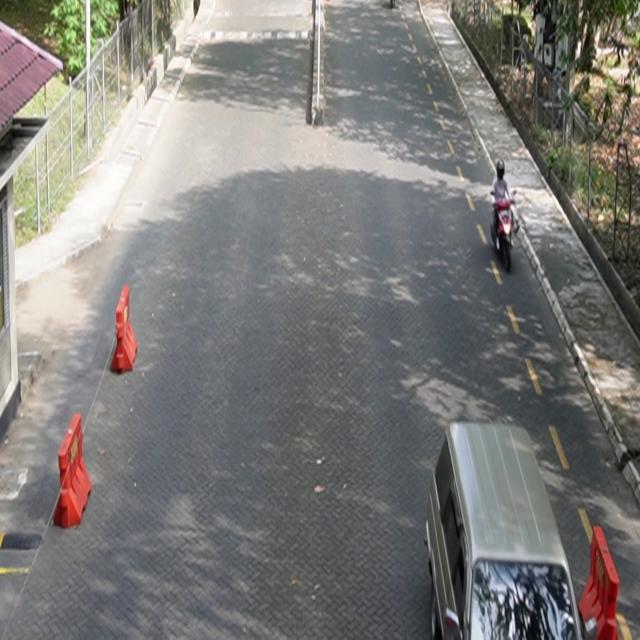truck: (424, 420, 621, 640)
